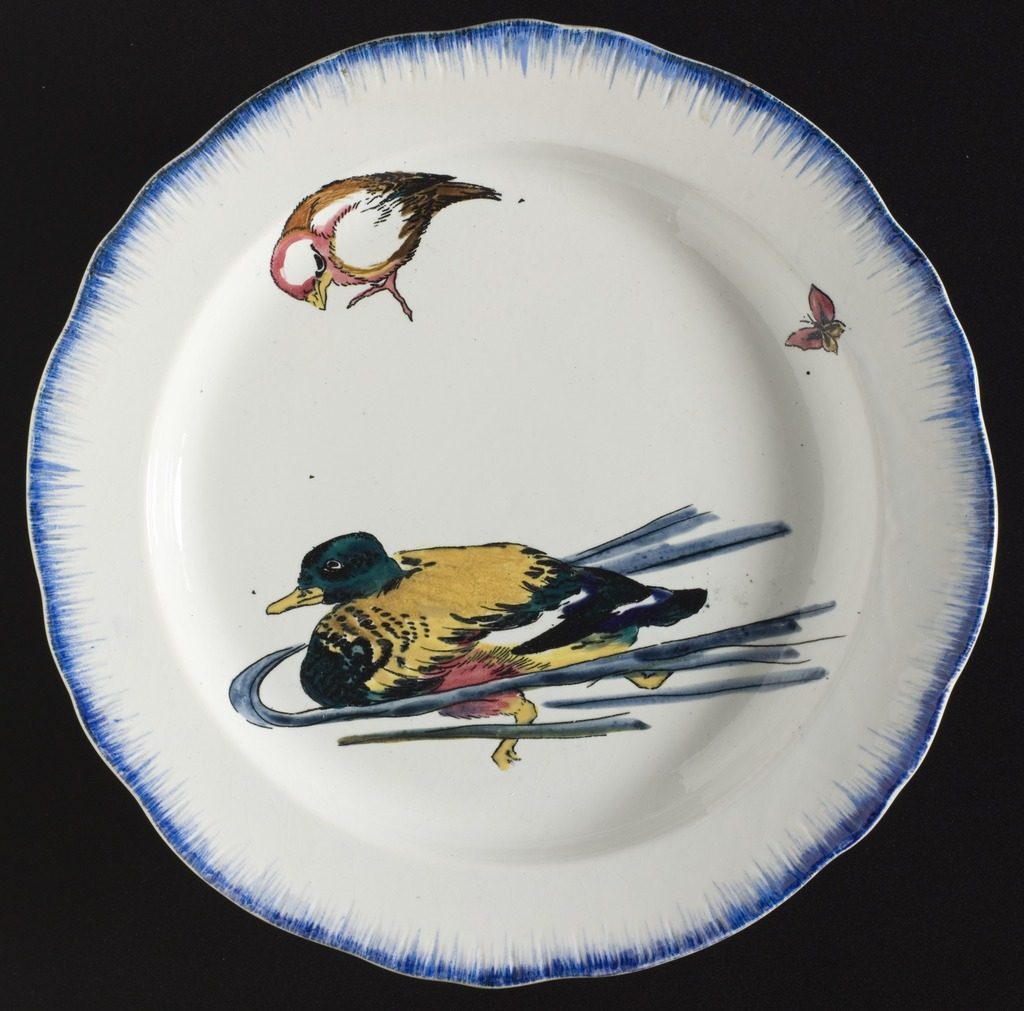plate: (24, 19, 999, 990)
